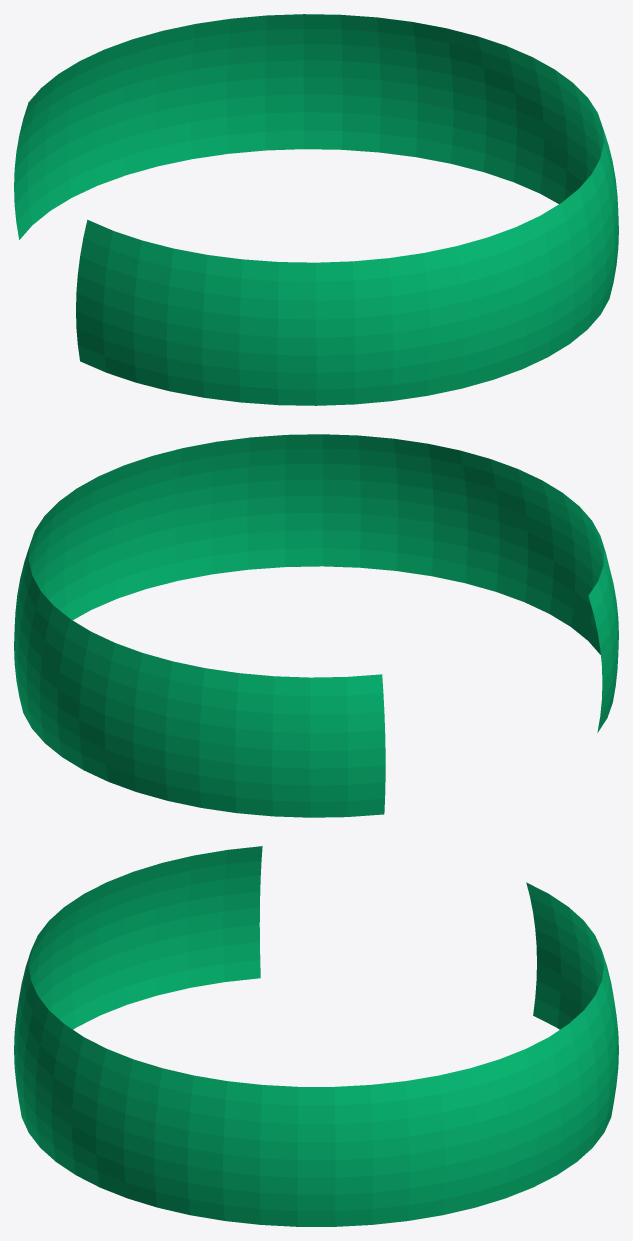
File: siatka.obj
The picture shows the model from 3 angles, top to bottom: view 1: azimuth 30°, elevation 25°; view 2: azimuth 150°, elevation 25°; view 3: azimuth 270°, elevation 25°; orthographic projection. The views are drawn at different scales.
Visible parts, largest first — view 1: Sphere; view 2: Sphere; view 3: Sphere.
Part boxes in pixels (x1,y1,x2,y2): Sphere: (14,14,618,405); Sphere: (14,434,618,817); Sphere: (14,846,618,1226).
Bounding box in the file's own units: 1.98 × 0.4964 × 2.
